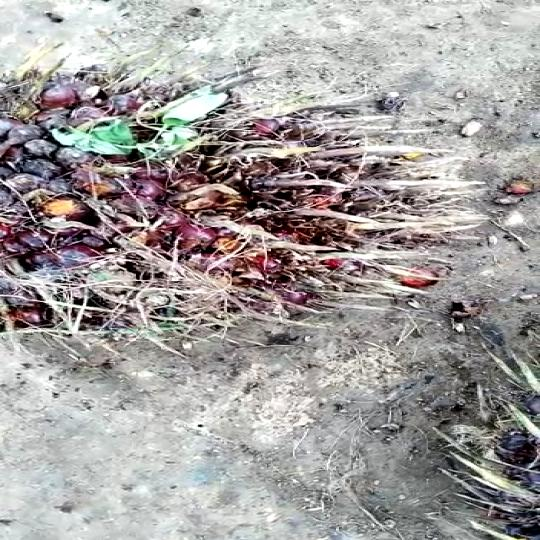masak: (0, 56, 470, 370)
